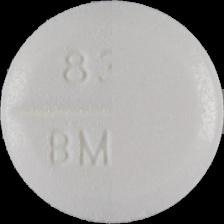0832-1080: (0, 0, 224, 224)
